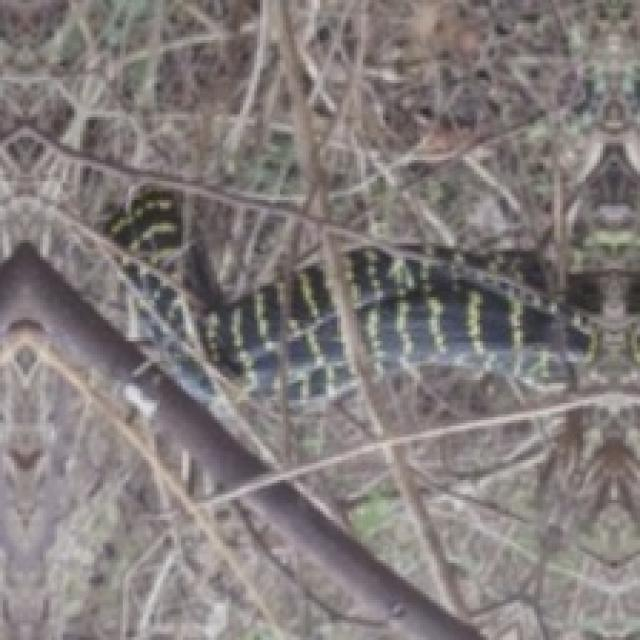mangrove cat snake: (103, 186, 354, 414), (346, 249, 557, 383), (569, 283, 637, 383)
